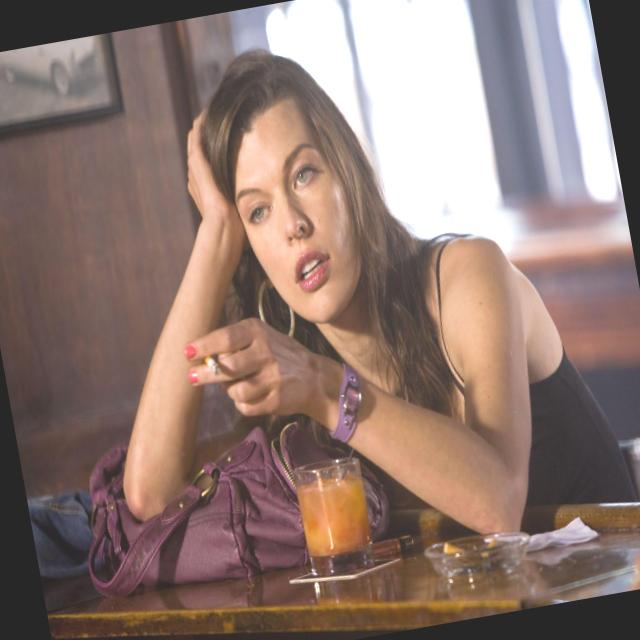smoke: (188, 336, 232, 392)
